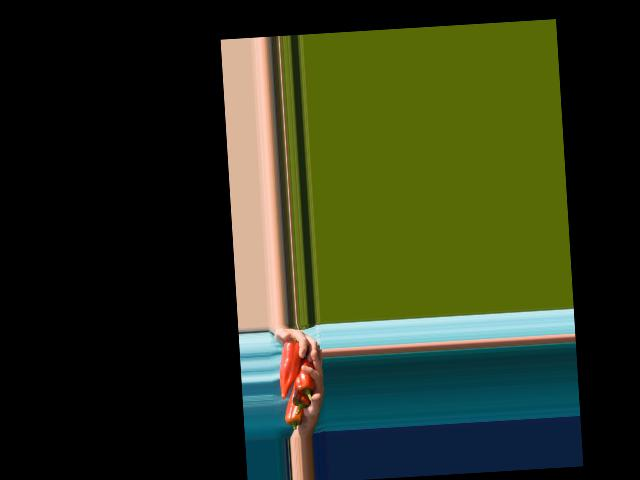bell_pepper: (283, 392, 306, 430)
